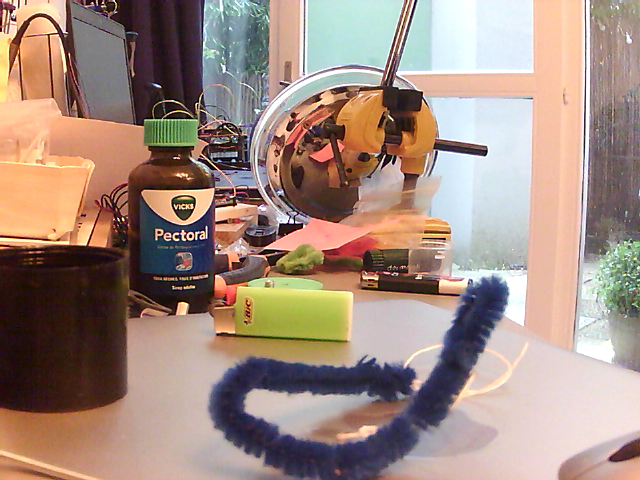lighter: (208, 287, 357, 344), (357, 271, 473, 300)
